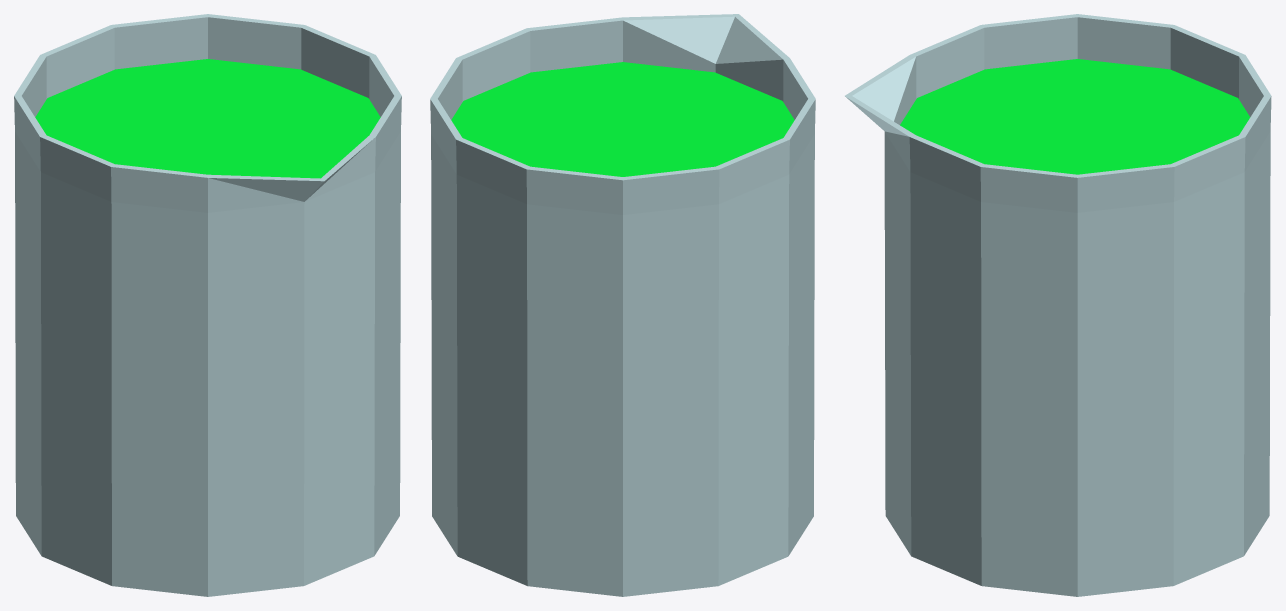
Rendered from BeckerVerde.fbx.
3 renders of one model, left to right at view 1: azimuth 30°, elevation 25°; view 2: azimuth 150°, elevation 25°; view 3: azimuth 270°, elevation 25°, orthographic.
Parts seen in each view (by area): view 1: Becker.3; view 2: Becker.3; view 3: Becker.3.
Boxes of the visible parts, left/top/right/bottom form: Becker.3: left=14, top=14, right=401, bottom=596; Becker.3: left=430, top=14, right=815, bottom=596; Becker.3: left=845, top=14, right=1271, bottom=596.
Bounding box in the file's own units: 20.65 × 24.67 × 22.74.
Materials: 2 (1 with a texture image).
